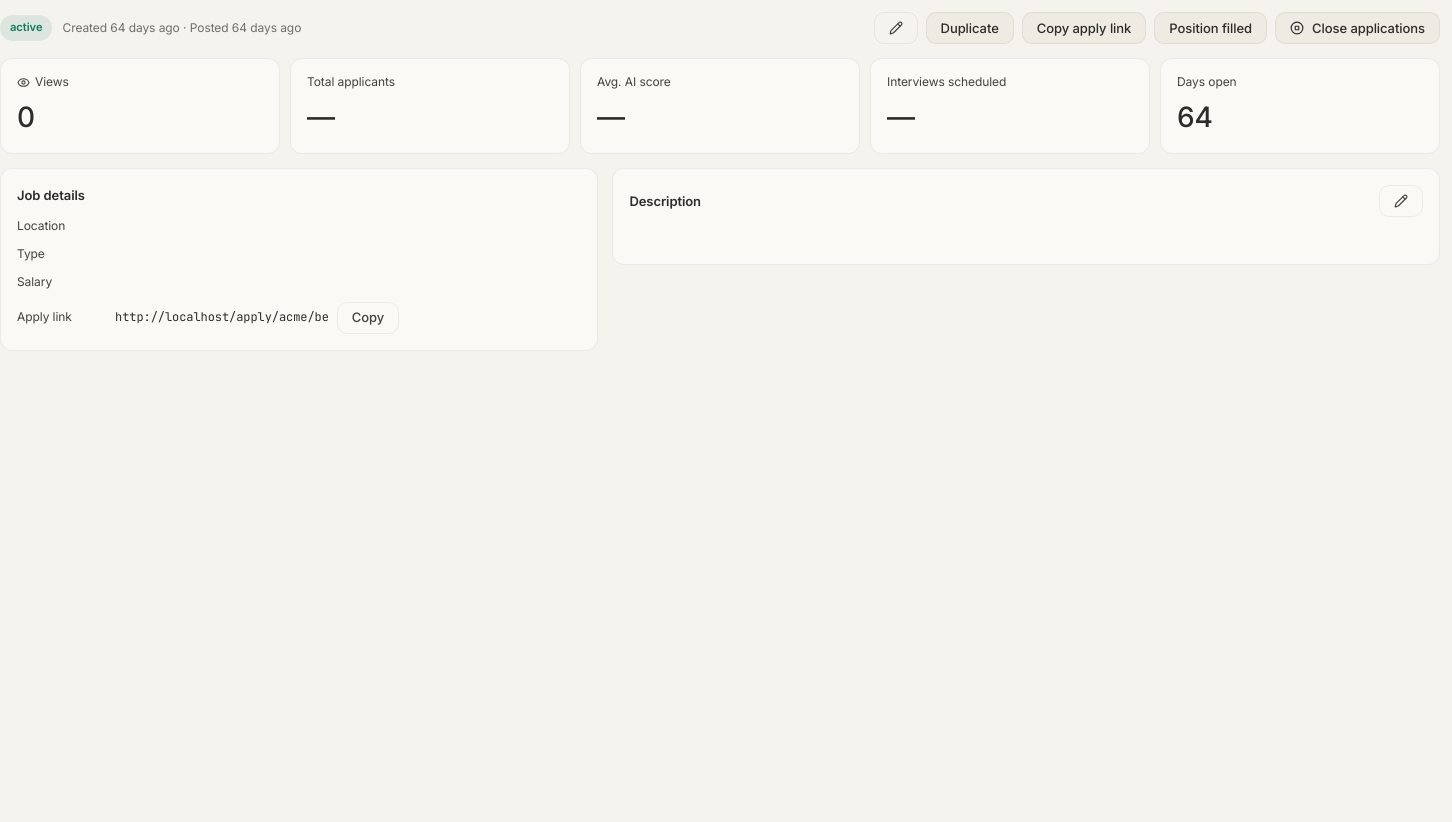
Scenario: Edit posting layout › shows the live preview beside the form
Click the button named "Edit posting". click: (896, 28)
box: [874,12,918,44]
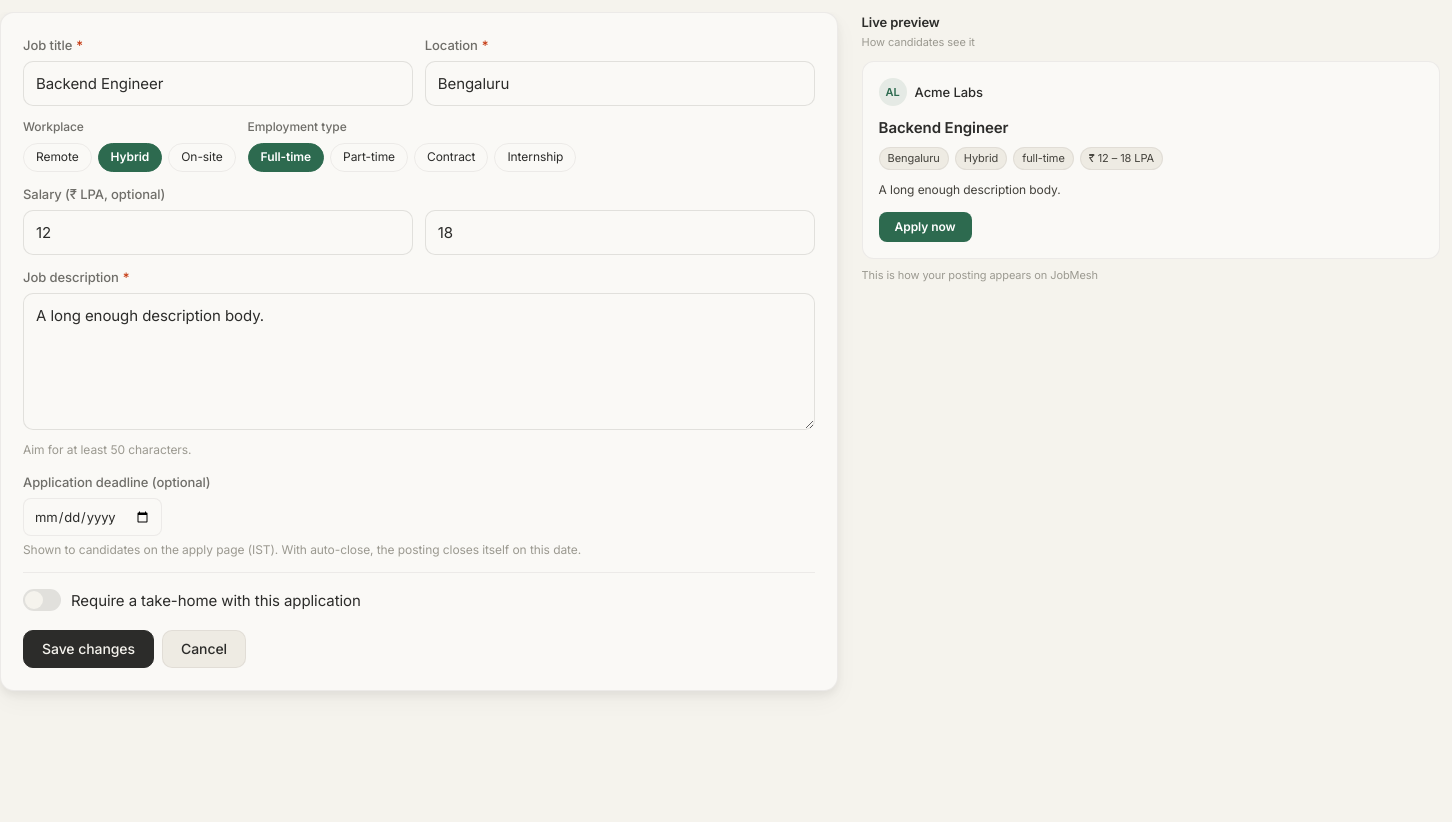
Result: the text "Live preview" is shown at [862,14,940,30]
Result: the button "Save changes" is shown at [23,630,154,668]
